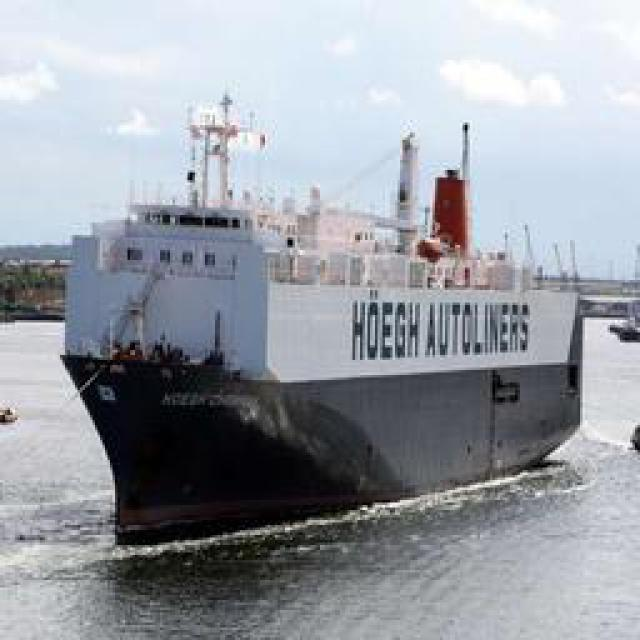Ship: (61, 75, 589, 543)
